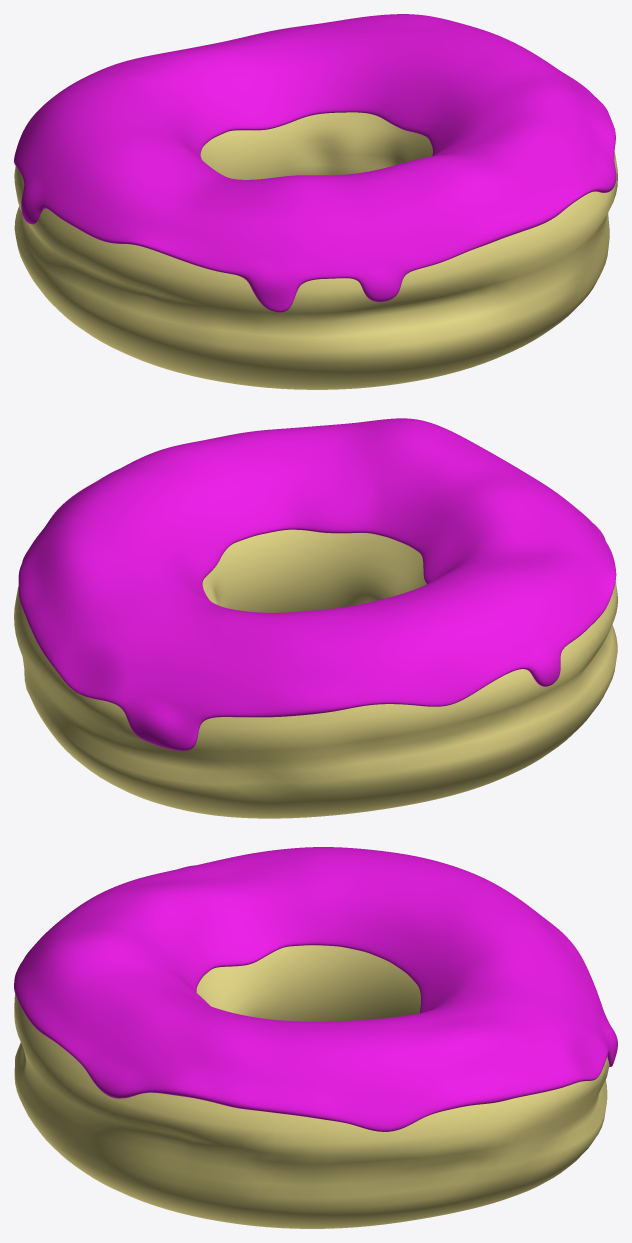
3 renders of one model, top to bottom at view 1: azimuth 30°, elevation 25°; view 2: azimuth 150°, elevation 25°; view 3: azimuth 270°, elevation 25°, orthographic.
Parts seen in each view (by area): view 1: Icing, Donut; view 2: Icing, Donut; view 3: Icing, Donut.
Part boxes in pixels (<box>): Icing: <box>14,14,616,312</box>; Donut: <box>14,112,617,389</box>; Icing: <box>18,418,616,750</box>; Donut: <box>14,529,617,818</box>; Icing: <box>14,847,617,1131</box>; Donut: <box>14,945,609,1228</box>.
Size of the model in its own units: 0.146 by 0.0576 by 0.1456.
